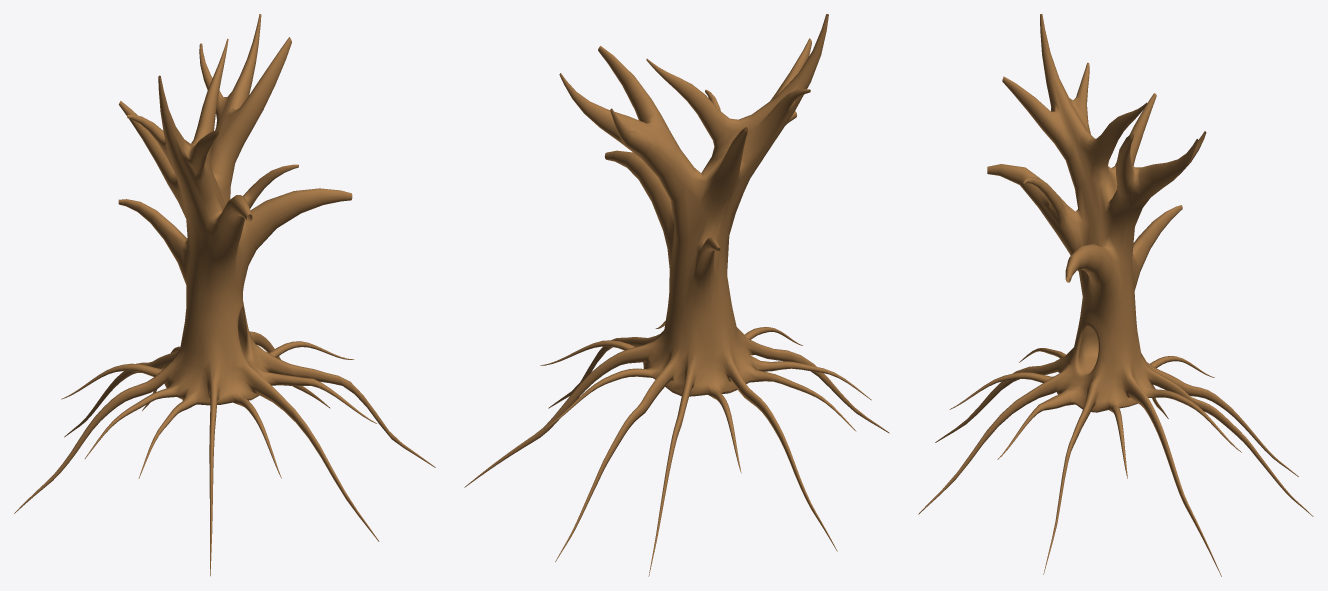
The model's file is tree_body.glb.
3 views of the same model, side by side, from view 1: azimuth 30°, elevation 25°; view 2: azimuth 150°, elevation 25°; view 3: azimuth 270°, elevation 25° (orthographic). The views are drawn at different scales.
Visible parts, largest first — view 1: Object_4.001; view 2: Object_4.001; view 3: Object_4.001.
Boxes of the visible parts, left/top/right/bottom form: Object_4.001: left=14, top=14, right=435, bottom=576; Object_4.001: left=464, top=14, right=889, bottom=576; Object_4.001: left=918, top=14, right=1313, bottom=576.
Size of the model in its own units: 5.7 by 7.24 by 5.83.
